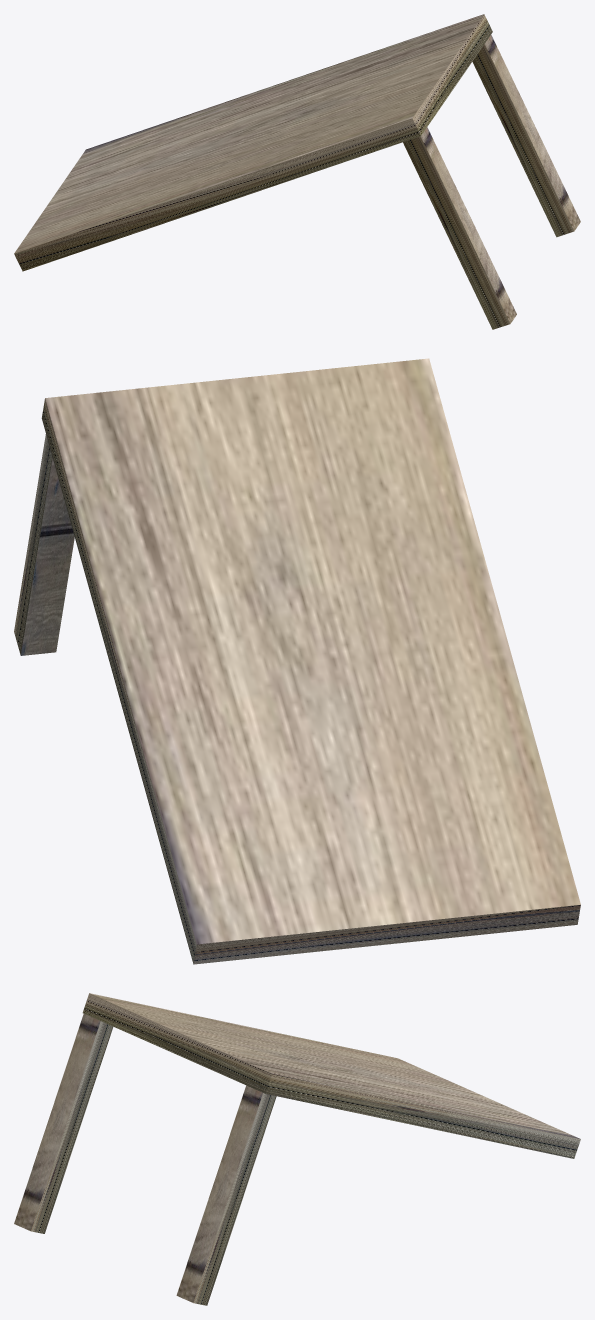
The model's file is desk texture 2.fbx.
The picture shows the model from 3 angles, top to bottom: view 1: azimuth 30°, elevation 25°; view 2: azimuth 150°, elevation 25°; view 3: azimuth 270°, elevation 25°; orthographic projection. The views are drawn at different scales.
Visible parts, largest first — view 1: polySurface42; view 2: polySurface42; view 3: polySurface42.
Boxes of the visible parts, left/top/right/bottom form: polySurface42: left=14, top=14, right=580, bottom=329; polySurface42: left=14, top=358, right=580, bottom=964; polySurface42: left=14, top=993, right=580, bottom=1305.
Size of the model in its own units: 22.74 by 9.4 by 23.19.
